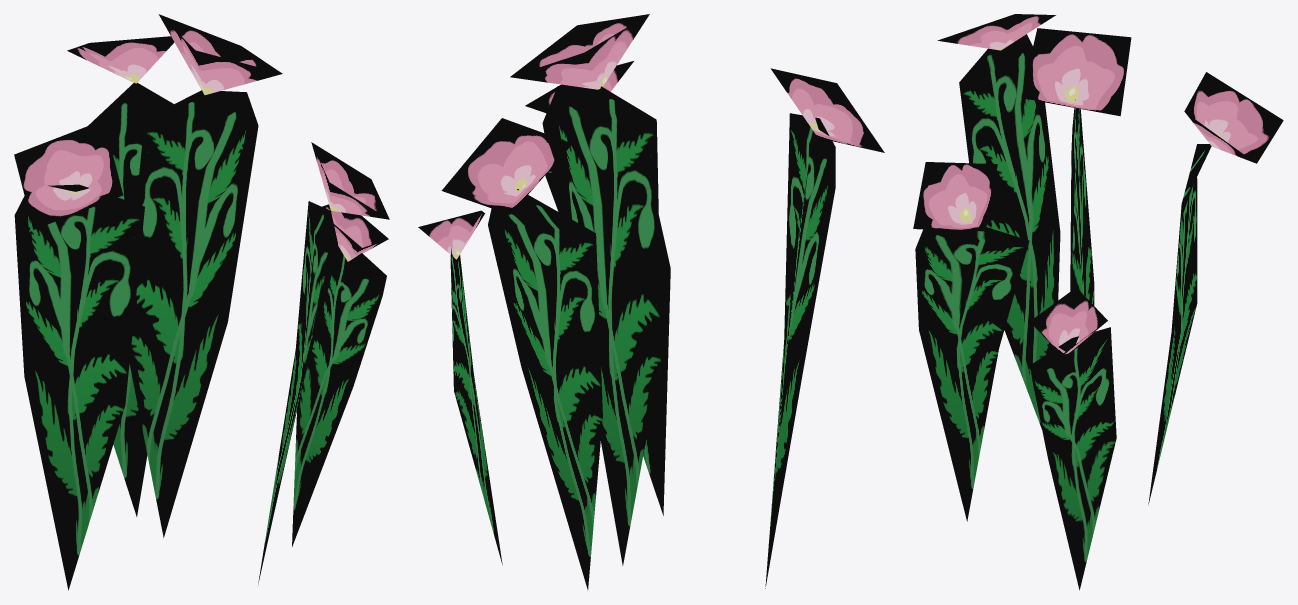
Rendered from Dahlia.fbx.
3 renders of one model, left to right at view 1: azimuth 30°, elevation 25°; view 2: azimuth 150°, elevation 25°; view 3: azimuth 270°, elevation 25°, orthographic. The views are drawn at different scales.
Parts seen in each view (by area): view 1: Dahlia; view 2: Dahlia; view 3: Dahlia.
Part boxes in pixels (left/top/right/bottom): Dahlia: left=14, top=14, right=389, bottom=590; Dahlia: left=418, top=14, right=884, bottom=589; Dahlia: left=913, top=14, right=1283, bottom=590.
Bounding box in the file's own units: 0.6317 × 0.8191 × 0.5409.
